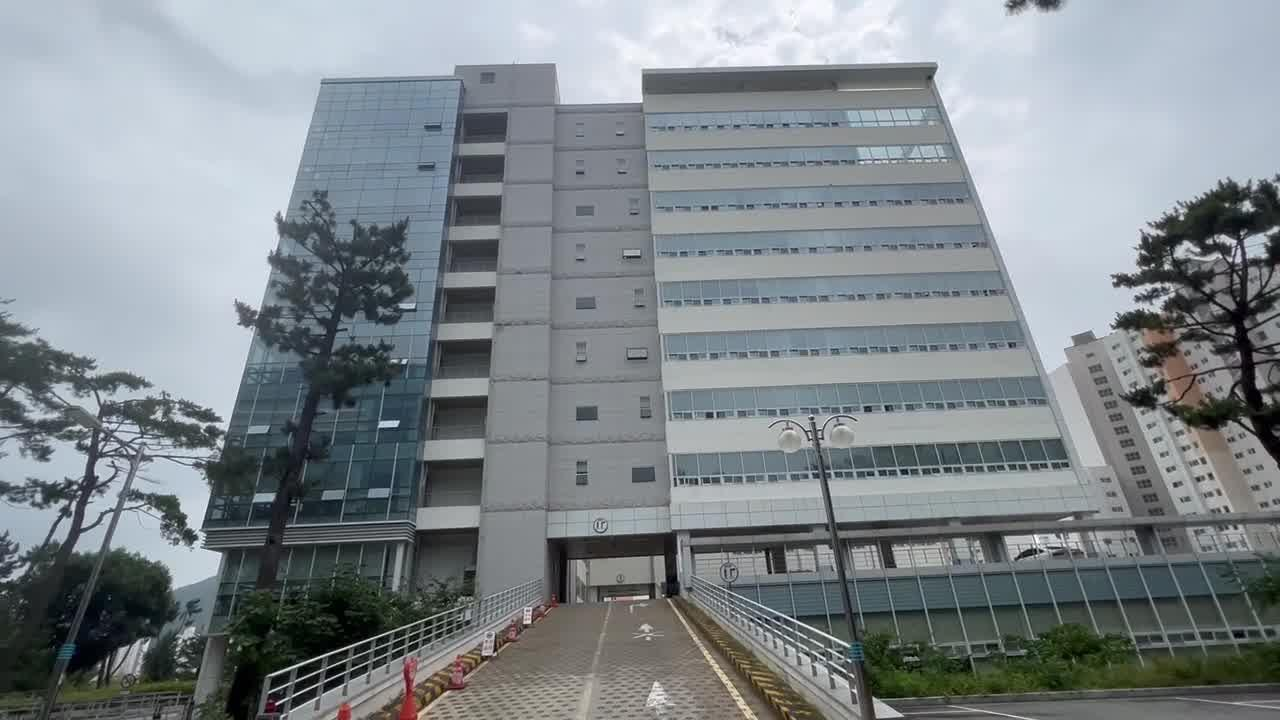building: (381, 47, 1048, 556)
